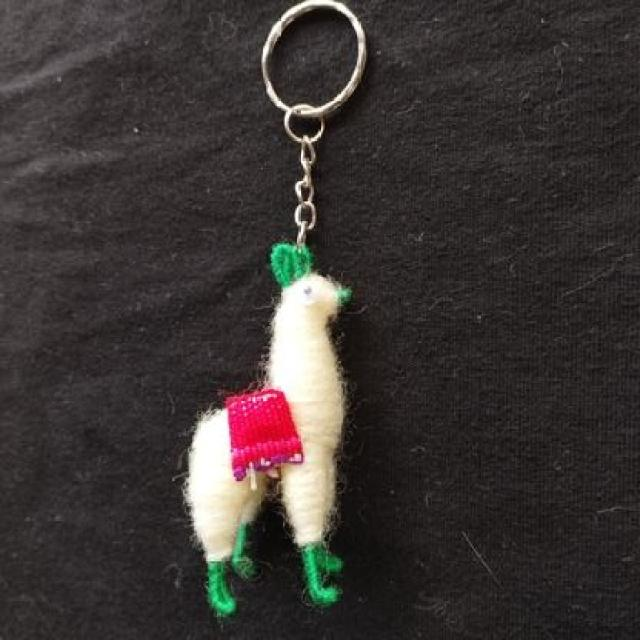Llavero: (182, 243, 353, 619)
